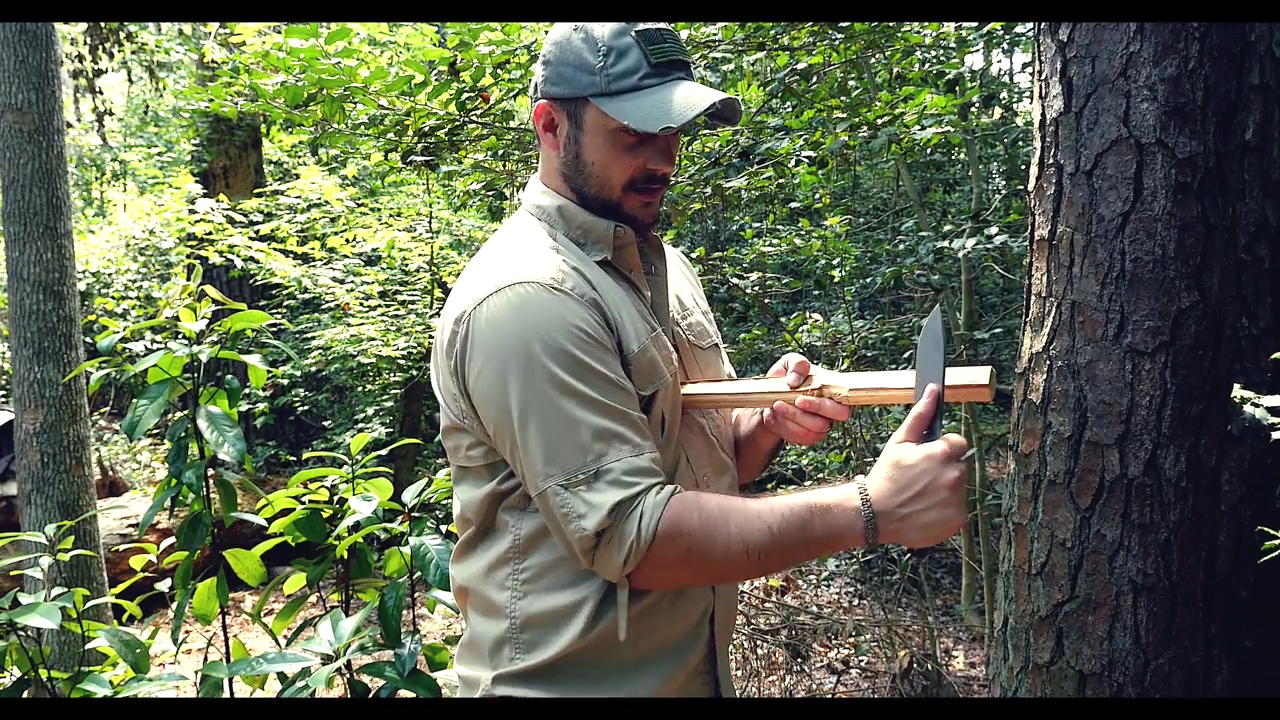knife: (895, 294, 977, 515)
